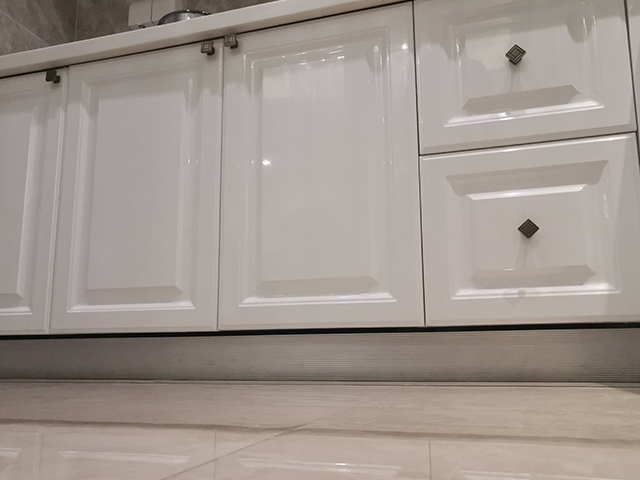cabinet: (1, 1, 640, 385)
